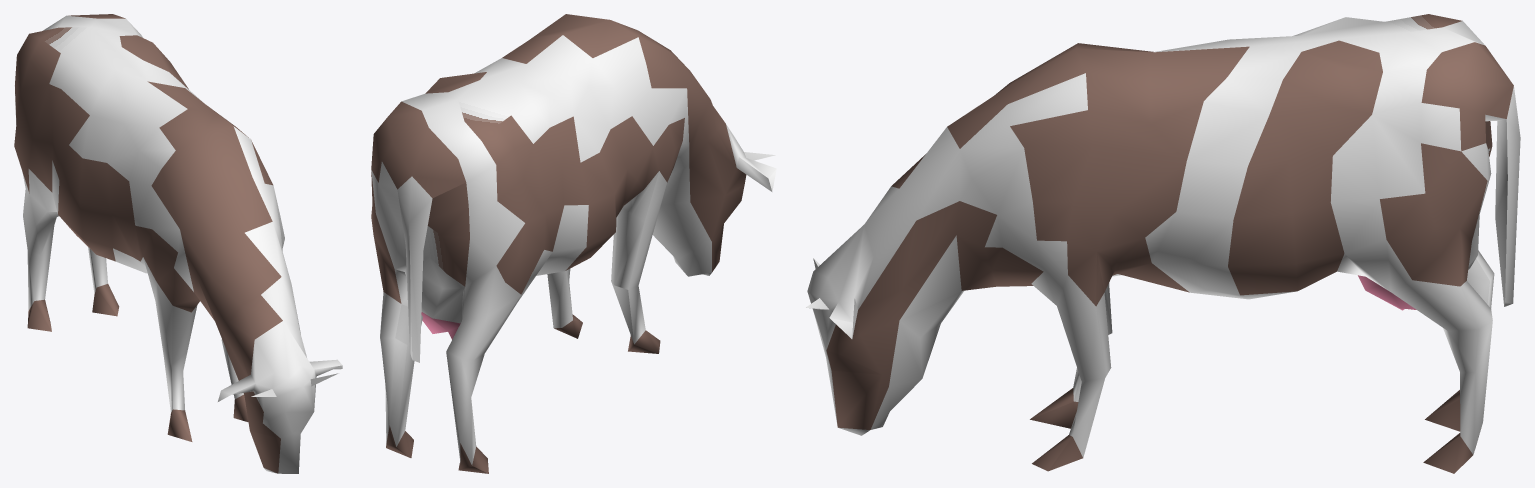
File: cow_003.glb
3 views of the same model, side by side, from view 1: azimuth 30°, elevation 25°; view 2: azimuth 150°, elevation 25°; view 3: azimuth 270°, elevation 25° (orthographic). The views are drawn at different scales.
Parts seen in each view (by area): view 1: cow_003; view 2: cow_003; view 3: cow_003.
Boxes of the visible parts, x1=… form: cow_003: x1=14, y1=14, x2=342, y2=473; cow_003: x1=371, y1=14, x2=776, y2=473; cow_003: x1=806, y1=14, x2=1520, y2=473.
Size of the model in its own units: 0.9005 by 1.8 by 2.82.
1 material, 1 textured.
